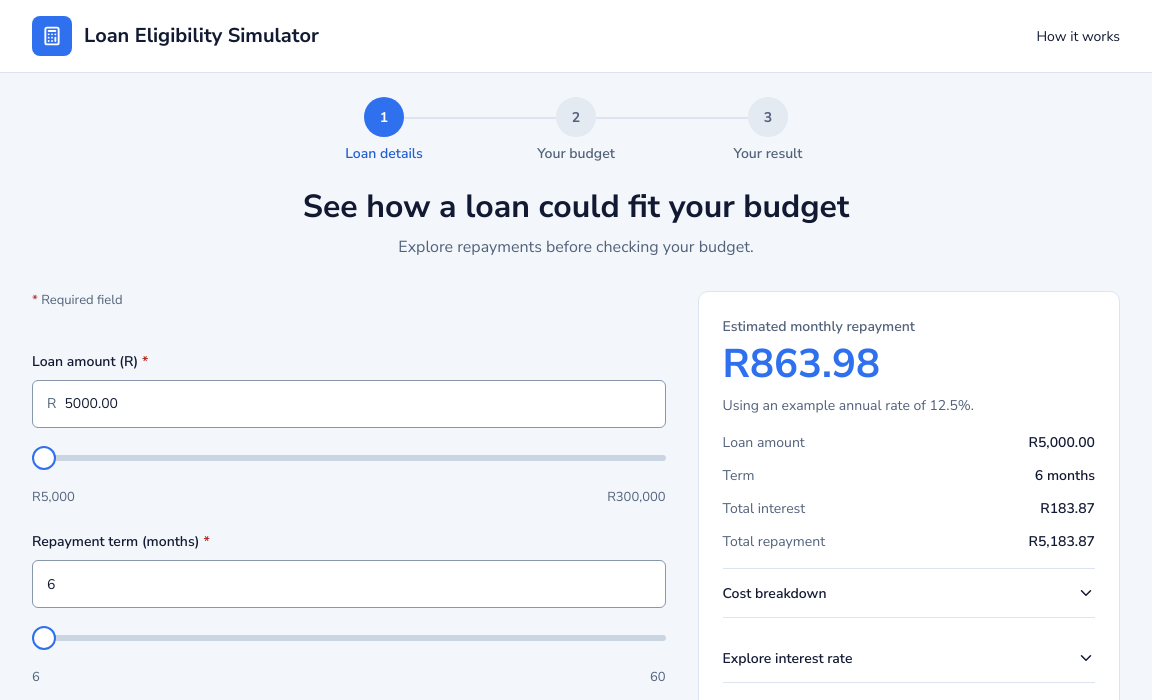
Test: LoanDetailsScreen › accepts a currency-formatted paste into the amount field
Click the field labelled "Loan amount (R) *" at x=358, y=404, box [64,381,651,427]
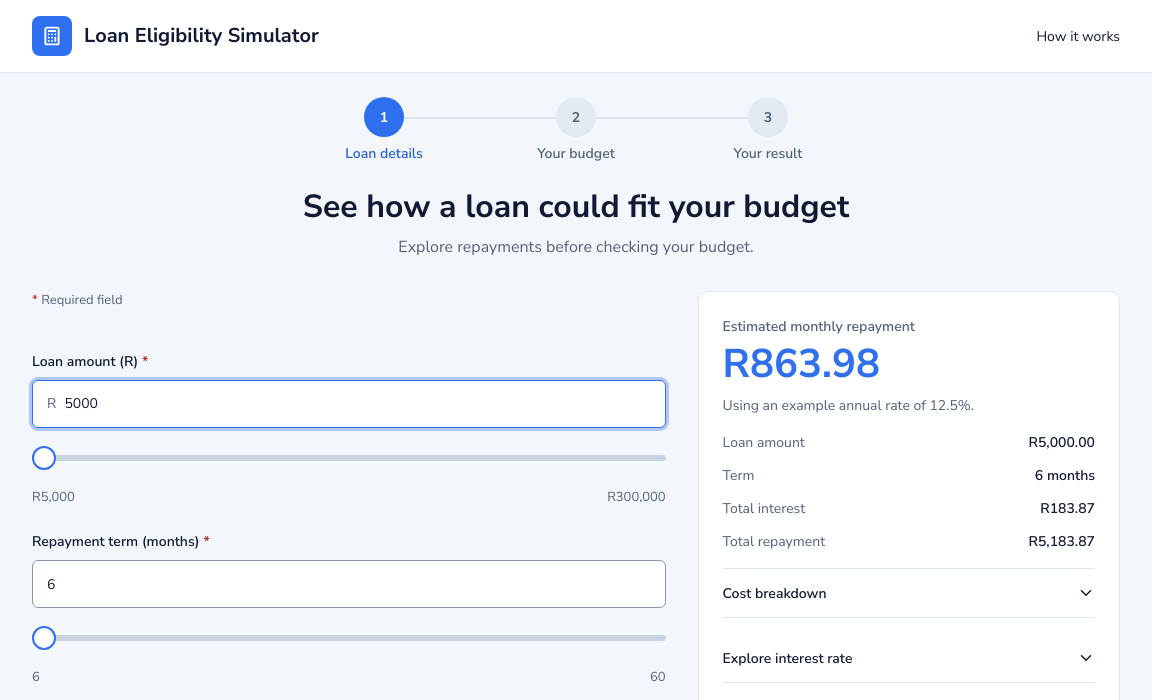
Type keys "R 25,000.00"
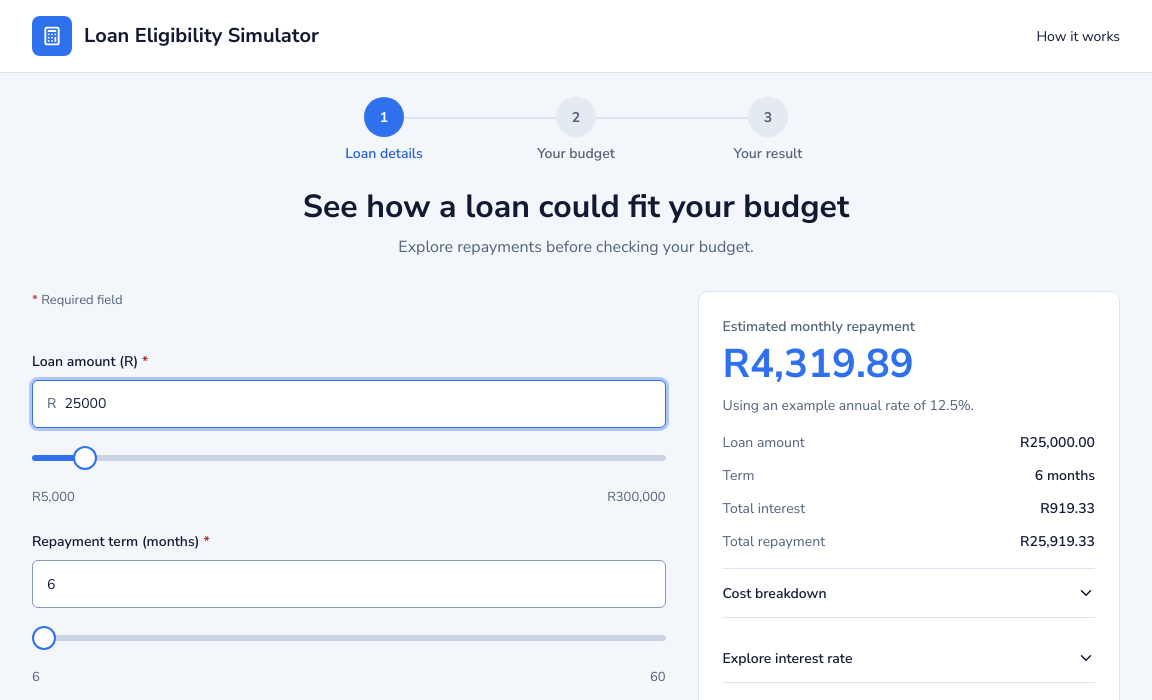
Press Tab
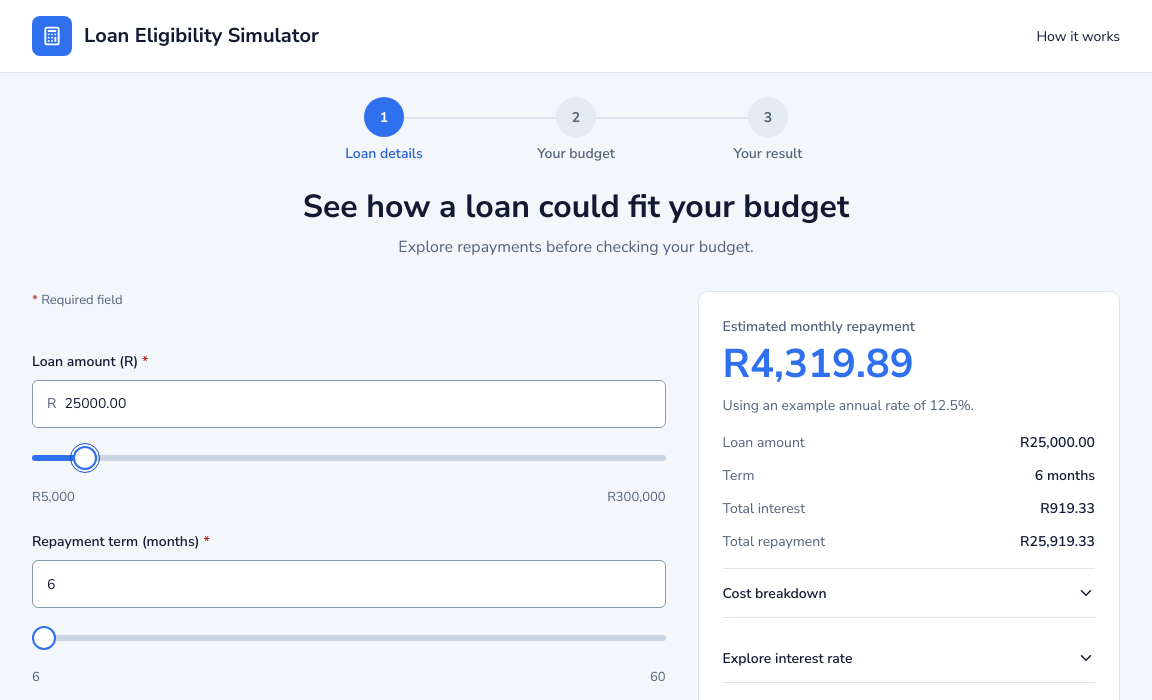
Expected: the field labelled "Loan amount (R) *" holds "25000.00", [64,381,651,427]
